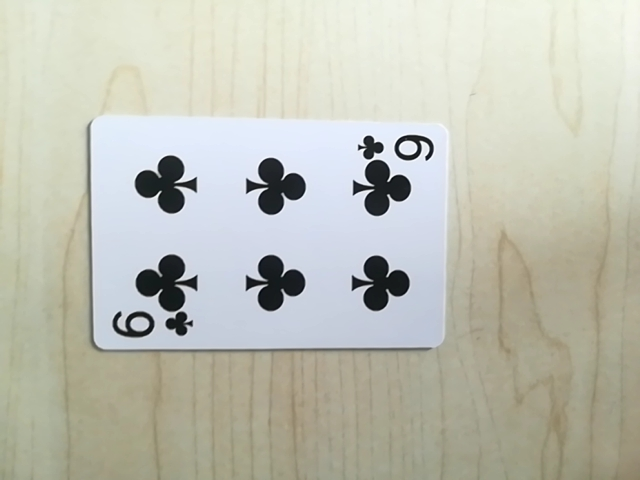mh 6: (106, 307, 196, 344), (356, 128, 437, 163)
